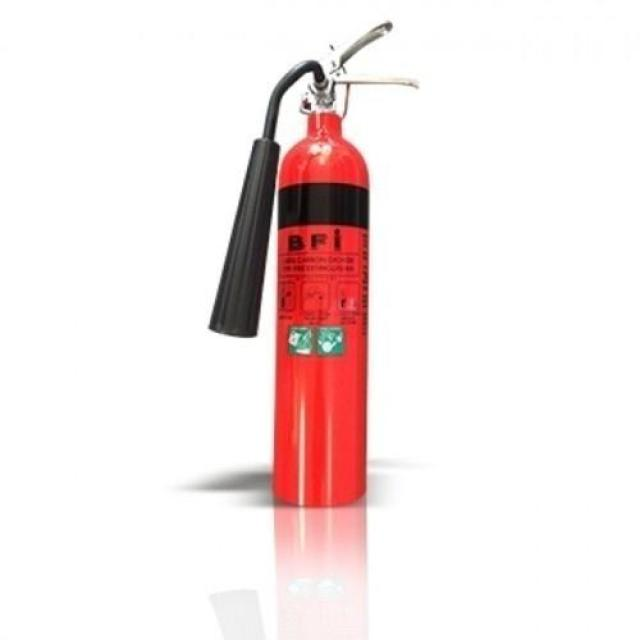fire_extinguisher: (200, 16, 423, 514)
